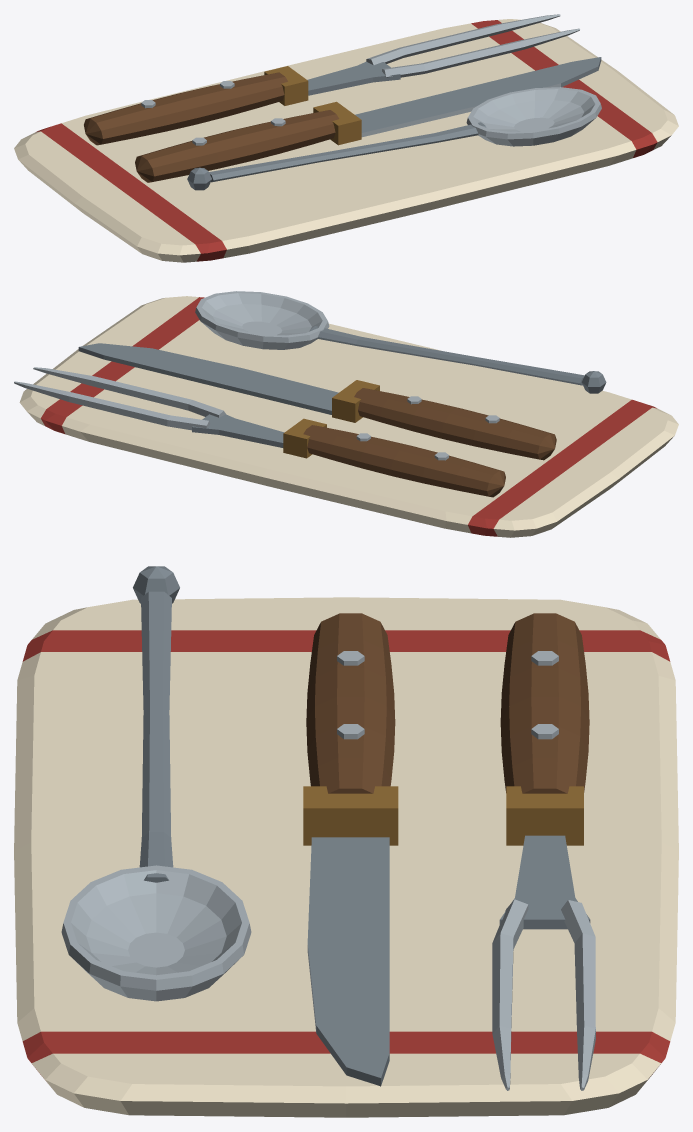
File: mdvl_food_cutlery_01.glb
The picture shows the model from 3 angles, top to bottom: view 1: azimuth 30°, elevation 25°; view 2: azimuth 150°, elevation 25°; view 3: azimuth 270°, elevation 25°; orthographic projection. The views are drawn at different scales.
Visible parts, largest first — view 1: mdvl_food_cutlery_01; view 2: mdvl_food_cutlery_01; view 3: mdvl_food_cutlery_01.
Part boxes in pixels (left/top/right/bottom): mdvl_food_cutlery_01: left=14, top=14, right=678, bottom=262; mdvl_food_cutlery_01: left=14, top=291, right=678, bottom=537; mdvl_food_cutlery_01: left=14, top=566, right=678, bottom=1117.
Size of the model in its own units: 0.278 by 0.0318 by 0.154.
Materials: 1 (1 with a texture image).
